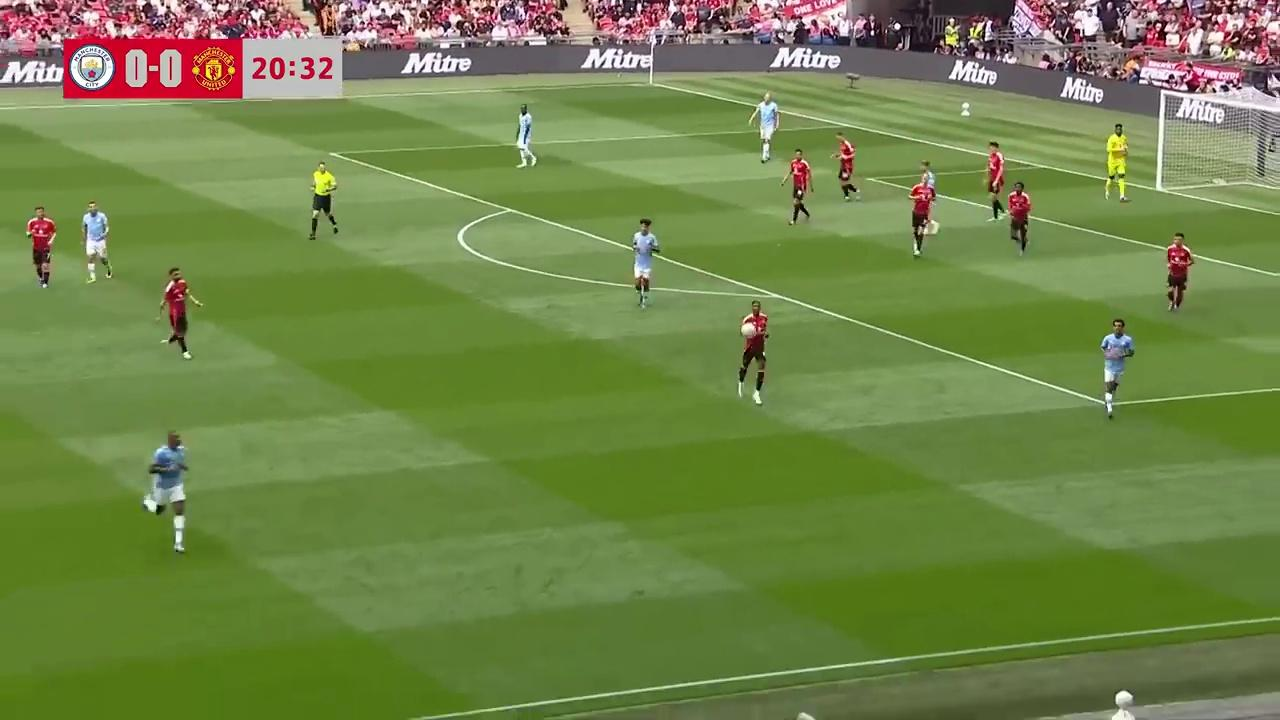ball: (740, 319, 759, 340)
player: (142, 431, 189, 555), (156, 266, 200, 359), (1100, 317, 1134, 420), (736, 300, 769, 405), (80, 200, 113, 283), (631, 217, 660, 309), (25, 204, 56, 288), (781, 148, 813, 226), (1165, 231, 1194, 312), (911, 159, 938, 242), (1103, 122, 1130, 203), (909, 174, 935, 257), (829, 136, 859, 201), (983, 143, 1006, 221), (1008, 181, 1032, 255), (755, 95, 780, 163), (515, 105, 537, 168)
referee: (308, 161, 340, 241)
